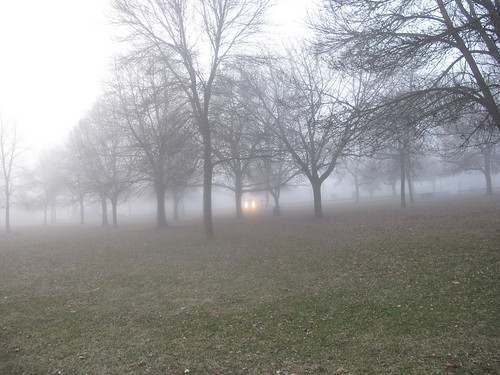grass: (2, 232, 500, 375)
vegetation: (1, 55, 500, 227)
